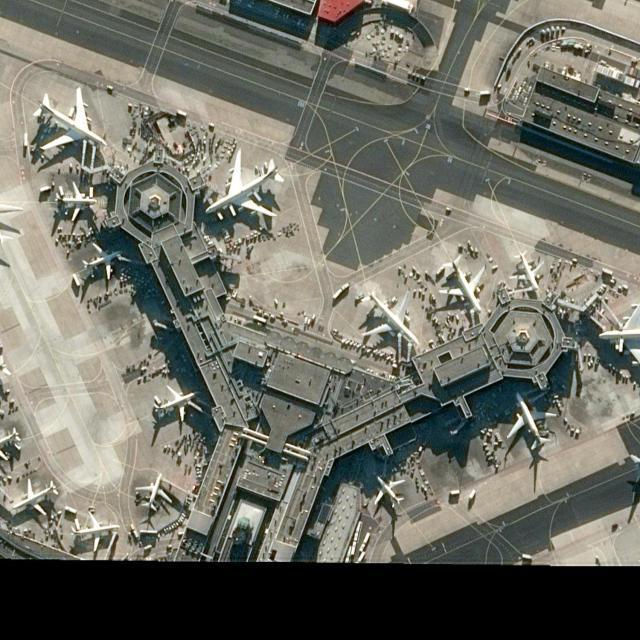Aircraft: (204, 150, 282, 222), (30, 89, 107, 153), (358, 289, 422, 355), (503, 394, 555, 452), (437, 258, 484, 318), (66, 513, 120, 555), (7, 477, 57, 519), (79, 244, 127, 279), (55, 185, 99, 222), (134, 472, 174, 512), (155, 389, 197, 425), (507, 252, 541, 296), (0, 183, 19, 251), (373, 477, 405, 515), (0, 427, 19, 465)
